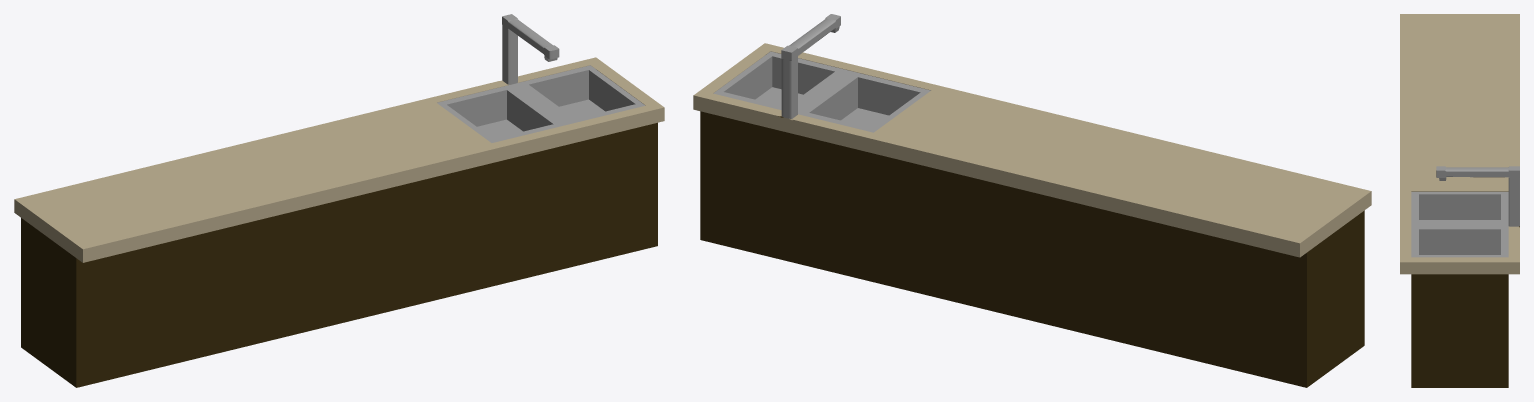
The model's file is PM2_Office_Kitchen_Counter.fbx.
The picture shows the model from 3 angles, left to right: view 1: azimuth 30°, elevation 25°; view 2: azimuth 150°, elevation 25°; view 3: azimuth 270°, elevation 25°; orthographic projection. The views are drawn at different scales.
Parts seen in each view (by area): view 1: Counter; view 2: Counter; view 3: Counter.
Part boxes in pixels (bbox=[...]): Counter: bbox=[14, 14, 664, 387]; Counter: bbox=[693, 14, 1371, 387]; Counter: bbox=[1400, 14, 1519, 387].
Size of the model in its own units: 789 by 269 by 161.
